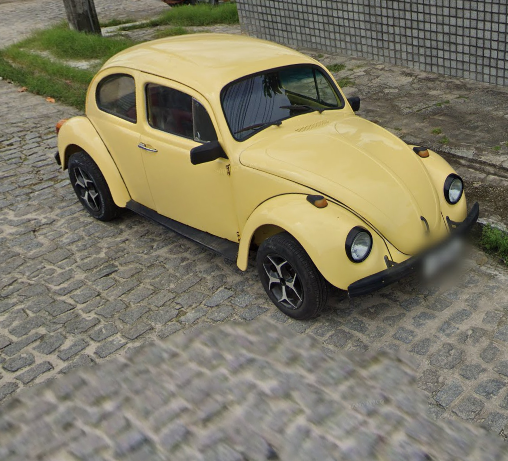car: (51, 28, 482, 322)
